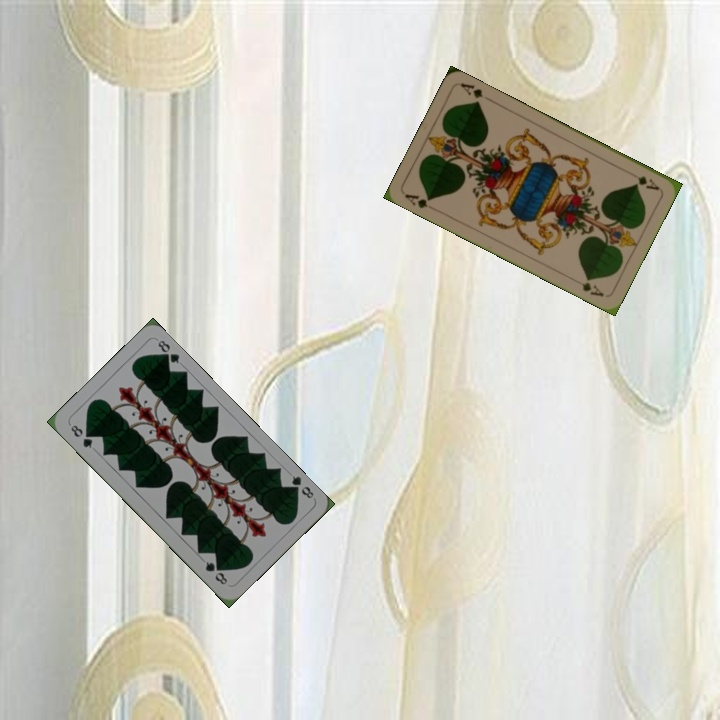G8: (285, 472, 316, 501), (66, 421, 95, 451)
GA: (625, 167, 662, 193), (401, 190, 435, 211)
